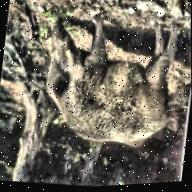boar: (29, 10, 192, 161)
